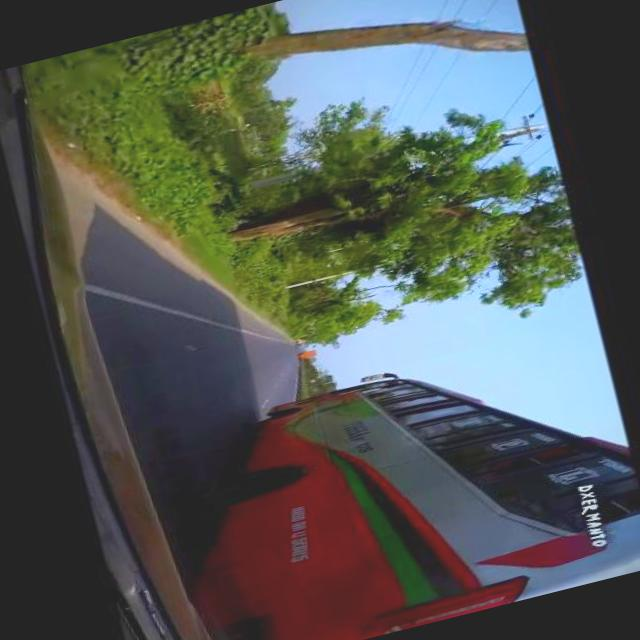bus: (162, 337, 595, 640)
